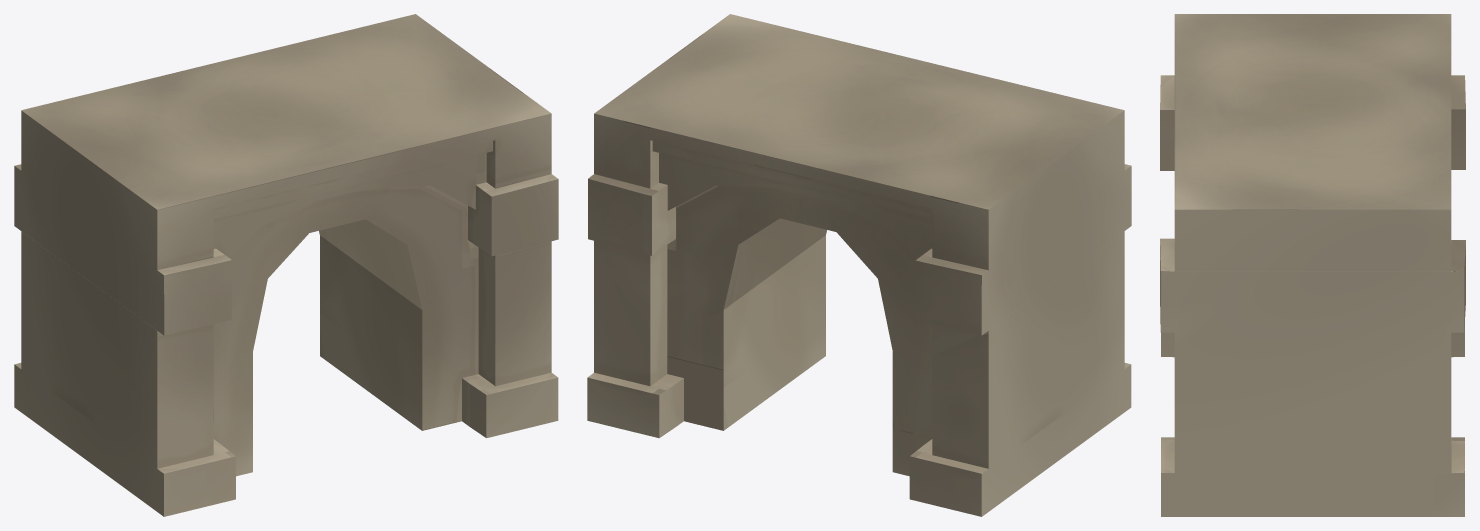
File: path_arched.fbx
3 views of the same model, side by side, from view 1: azimuth 30°, elevation 25°; view 2: azimuth 150°, elevation 25°; view 3: azimuth 270°, elevation 25° (orthographic).
Visible parts, largest first — view 1: path_arched; view 2: path_arched; view 3: path_arched.
Part boxes in pixels (x1,y1,x2,y2): path_arched: (14,14,558,516); path_arched: (587,14,1131,516); path_arched: (1160,14,1465,516).
Size of the model in its own units: 509 by 373 by 336.
